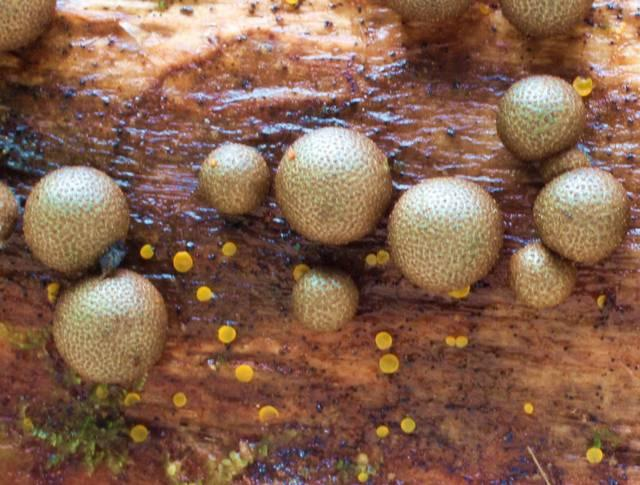Non-edible Mushroom: (50, 267, 168, 391), (273, 124, 392, 245), (386, 174, 504, 295), (21, 164, 130, 276), (531, 165, 630, 265), (495, 73, 586, 161), (197, 140, 270, 216), (507, 241, 577, 309), (290, 264, 359, 332), (494, 0, 598, 37), (0, 0, 57, 53), (374, 0, 473, 27), (0, 172, 18, 252)
